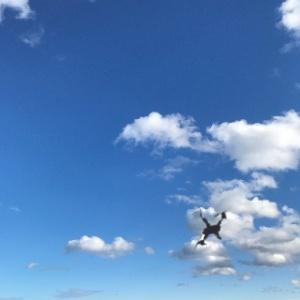drone: (168, 189, 251, 272)
